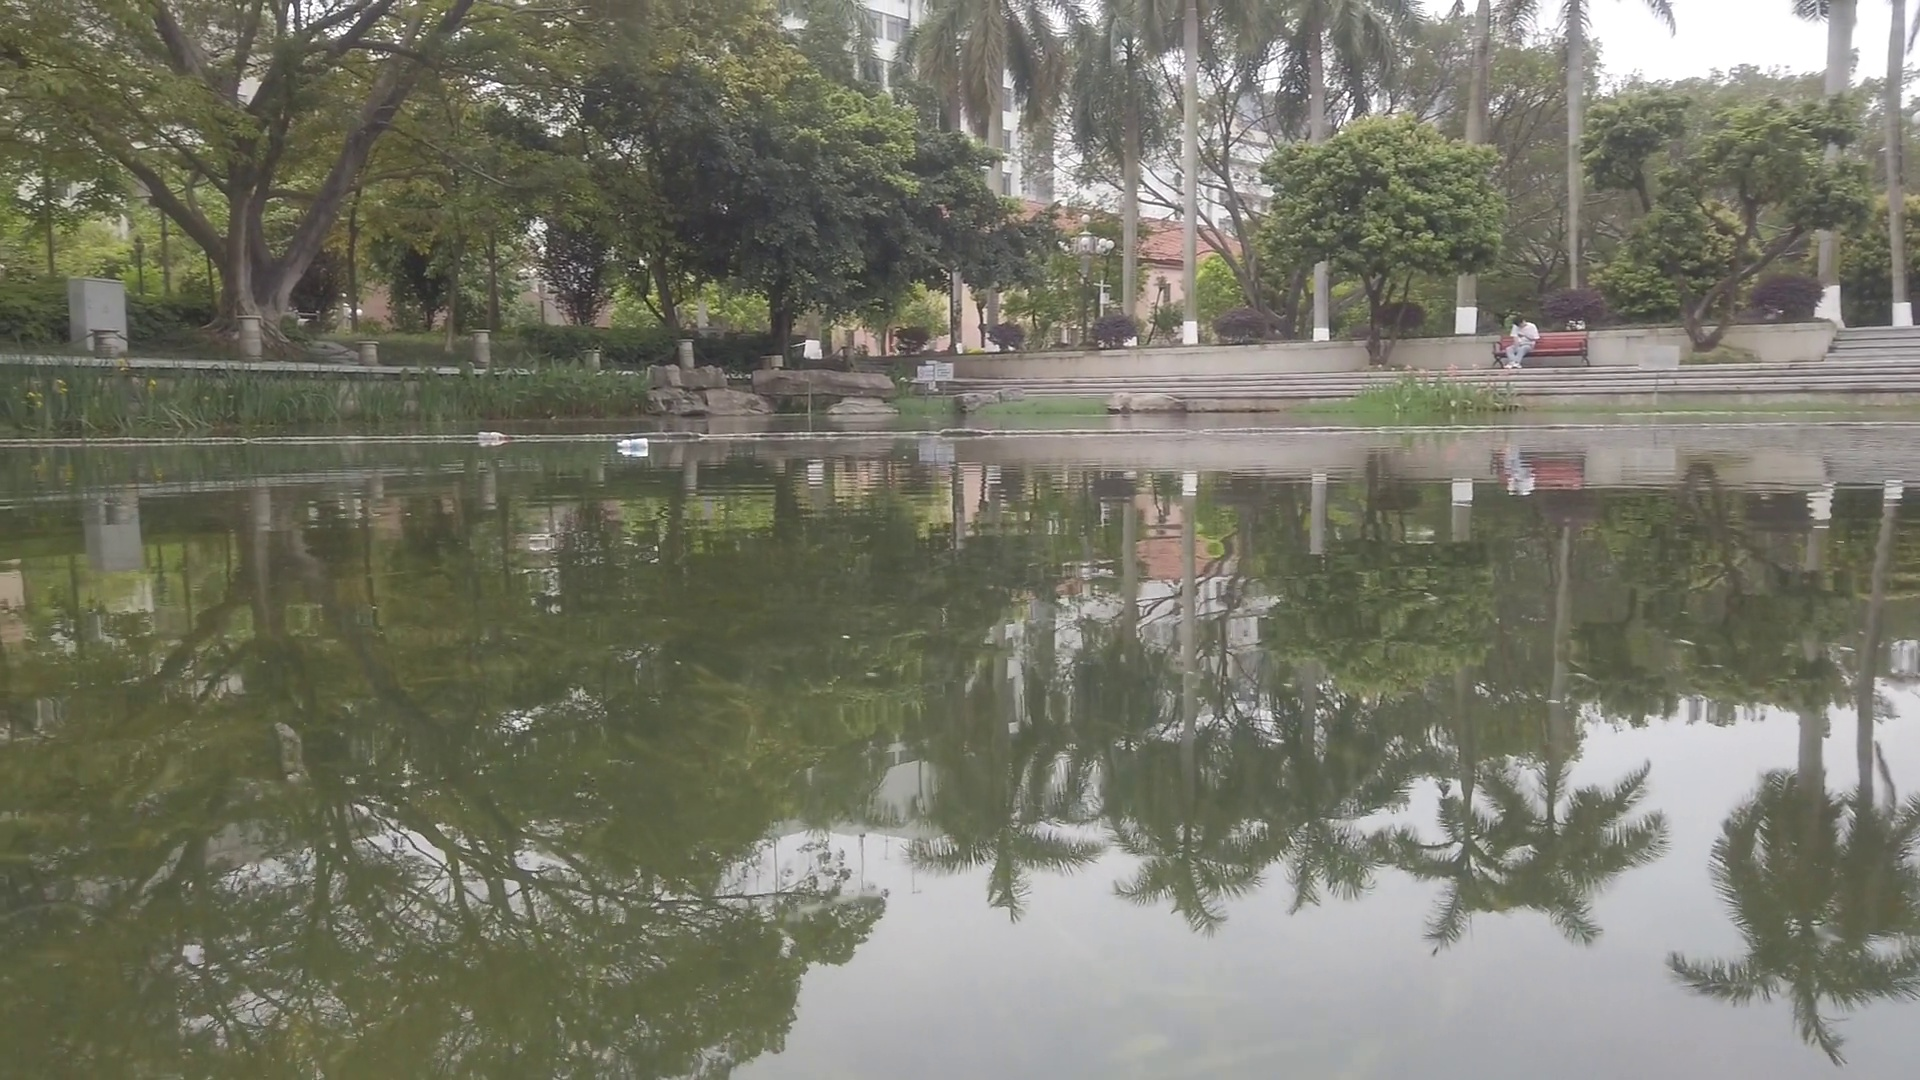bottle: (479, 431, 510, 443), (617, 438, 650, 448)
